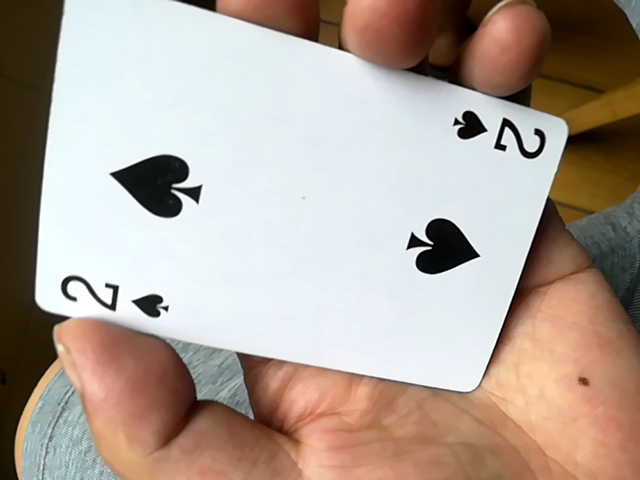ht 2: (26, 4, 577, 404)
